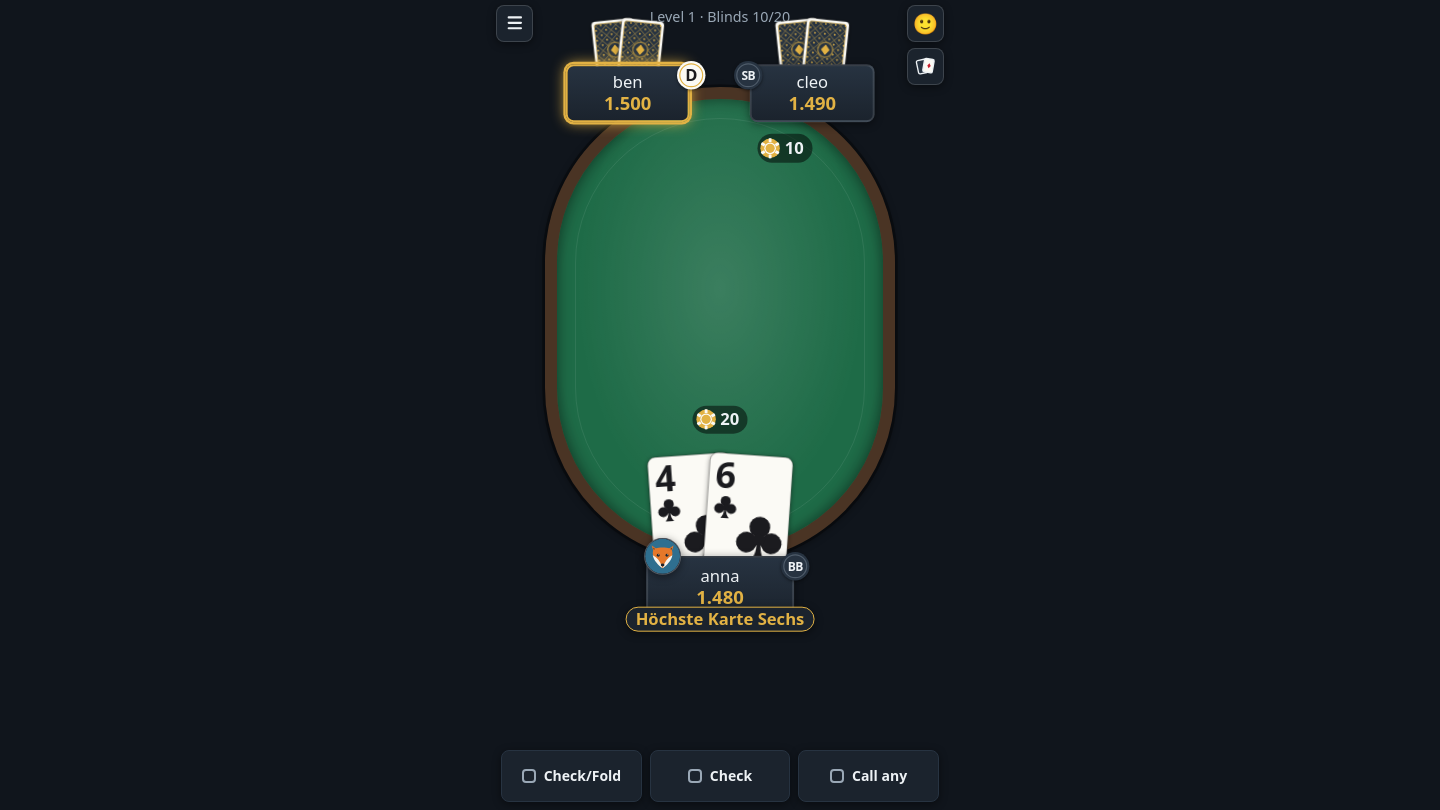
Scenario: Admin zieht neue eigene Karten (GameTable) › Tipp auf die eigenen Karten sendet admin.redrawCards, beliebig oft; Ablehnung erscheint als Hinweis
Click the button named "Neue Karten ziehen": click(720, 510) 650,450 -> 790,570
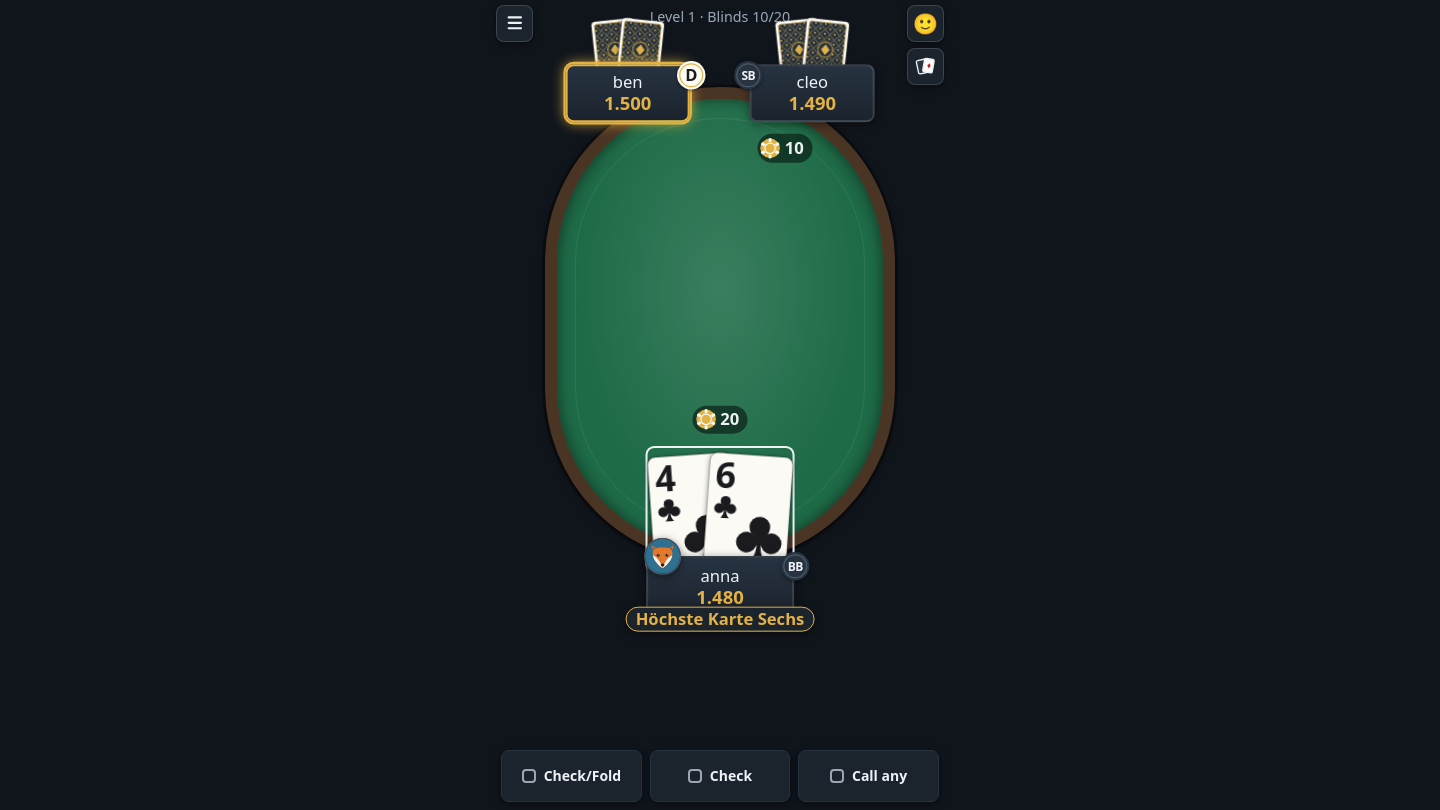
Click the button named "Neue Karten ziehen": click(720, 510) 650,450 -> 790,570
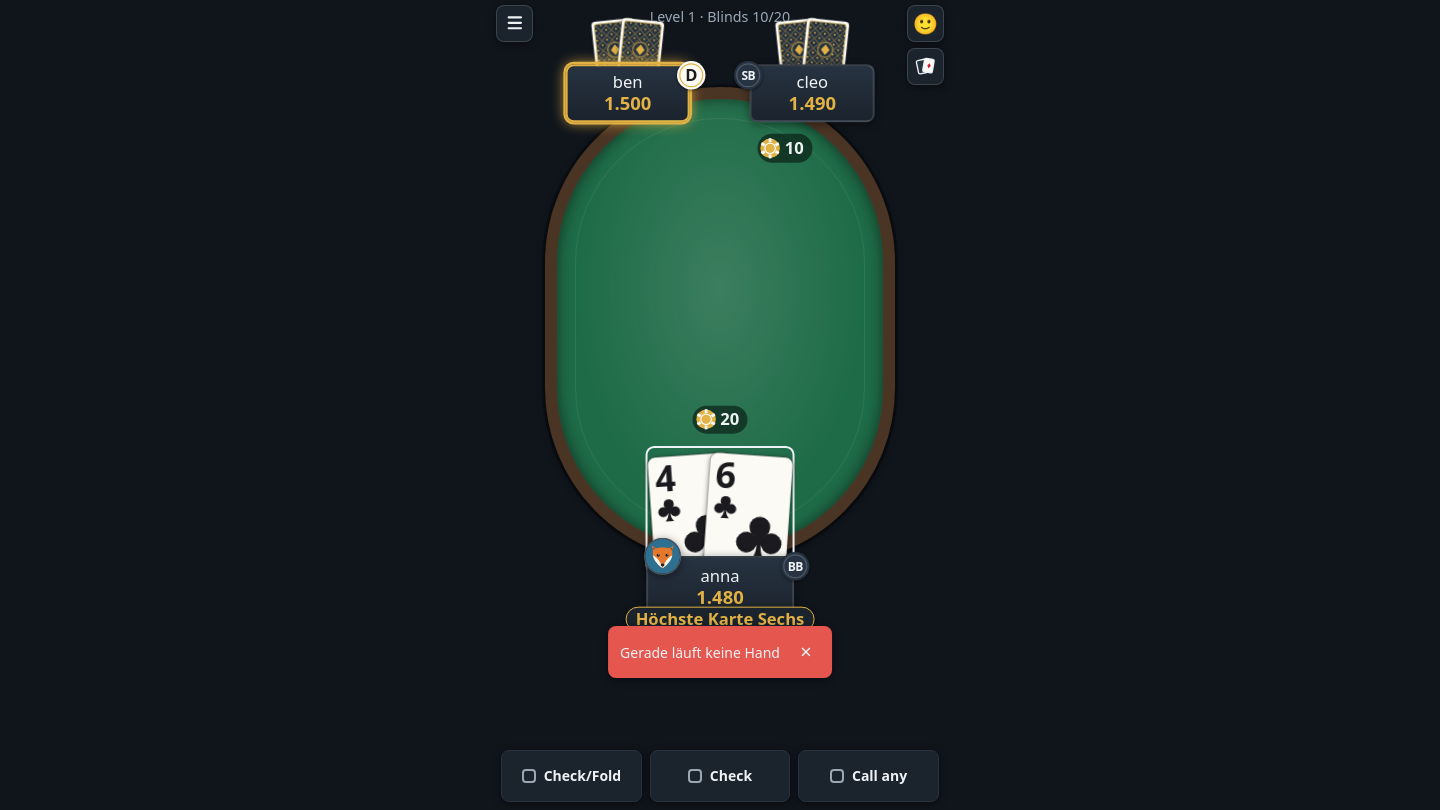
Now the text "Gerade läuft keine Hand" is shown, box 620,642 -> 780,662
